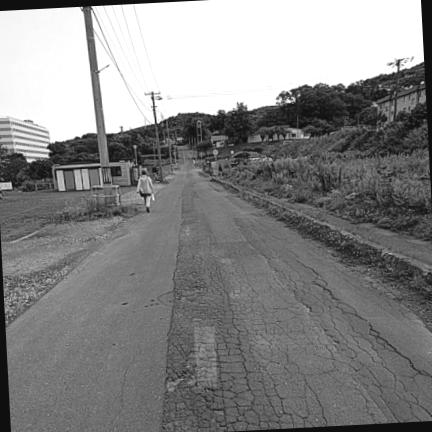Road: (6, 151, 431, 431)
